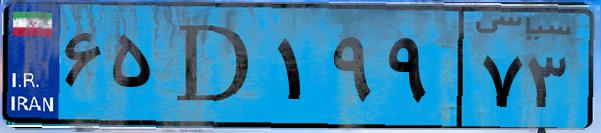1: (270, 28, 330, 110)
3: (525, 38, 570, 115)
5: (110, 28, 158, 98)
6: (57, 26, 110, 100)
7: (475, 38, 525, 113)
9: (385, 28, 445, 110), (330, 28, 385, 110)
D: (158, 12, 270, 120)
